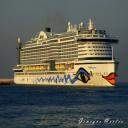cruises: (13, 20, 121, 91)
